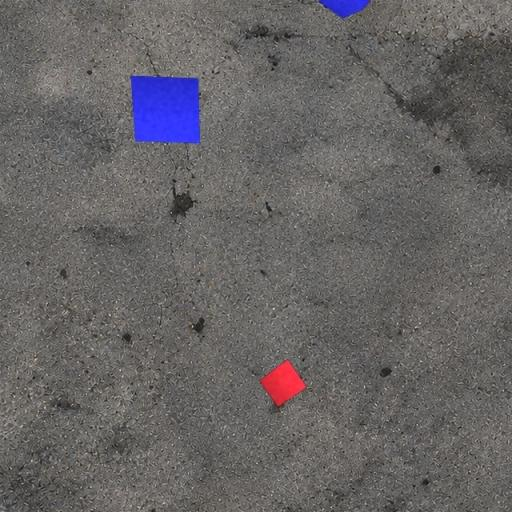BLUE_SQUARE: (130, 75, 200, 143)
RED_SQUARE: (259, 358, 308, 408)
